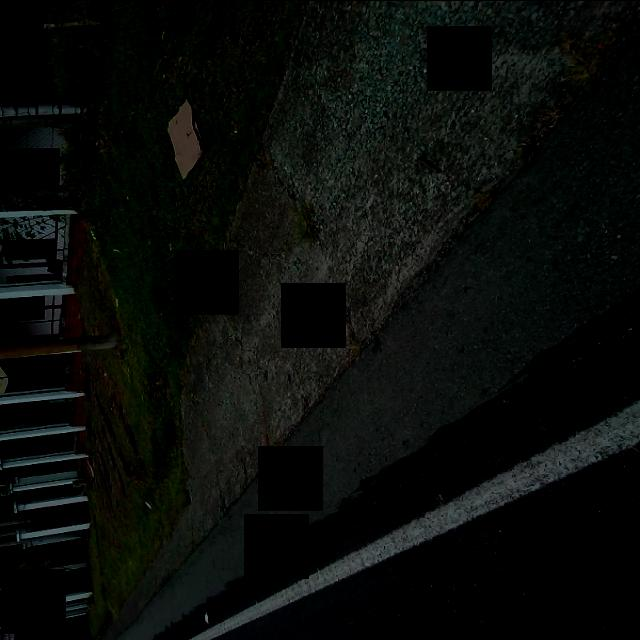DITCH: (92, 2, 638, 638), (95, 2, 638, 638)
